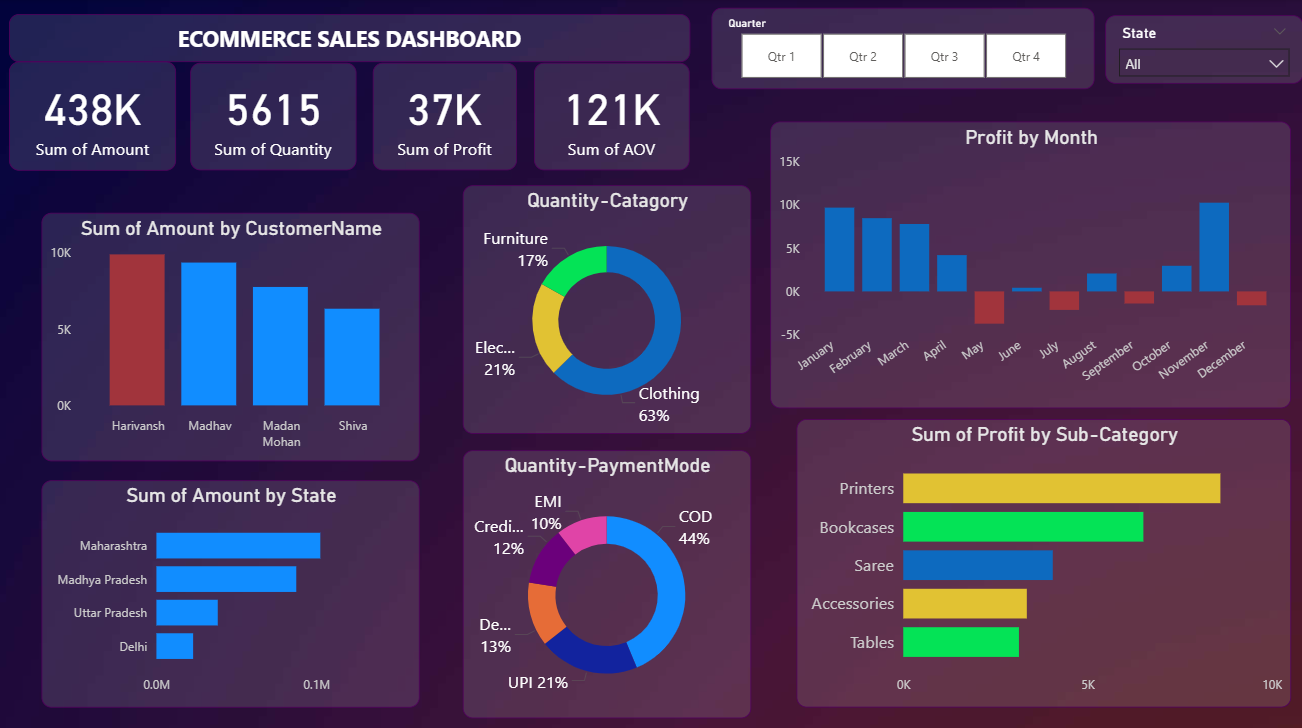

This screenshot's page, from the dashboard's own definition file:
{"tool":"powerbi","page":{"name":"Page 1","canvas":[1280,720],"ordinal":0},"visuals":[{"type":"textbox","box":[10,14.3,668.6,47.1],"z":0},{"type":"columnChart","title":"Profit by Month","fields":{"Category":["Orders.Order Date.Variation.Date Hierarchy.Month"],"Y":["Details.Profit"]},"box":[757.1,120,511.4,281.4],"z":1000},{"type":"barChart","fields":{"Category":["Details.Sub-Category"],"Y":["Details.Profit"]},"box":[782.9,412.9,485.7,282.9],"z":2000},{"type":"donutChart","title":"Quantity-PaymentMode","fields":{"Y":["Details.Quantity"],"Category":["Details.PaymentMode"]},"box":[455.7,442.9,282.9,262.9],"z":3000},{"type":"donutChart","title":"Quantity-Catagory","fields":{"Category":["Details.Category"],"Y":["Details.Quantity"]},"box":[455.7,182.9,282.9,244.3],"z":4000},{"type":"card","fields":{"Values":["Details.Profit"]},"box":[367.1,62.9,141.4,105.7],"z":5000},{"type":"card","fields":{"Values":["Details.Amount"]},"box":[10,61.4,164.3,107.1],"z":6000},{"type":"card","fields":{"Values":["Details.Quantity"]},"box":[187.1,62.9,162.9,105.7],"z":7000},{"type":"card","fields":{"Values":["Details.AOV"]},"box":[525.7,62.9,152.9,105.7],"z":8000},{"type":"columnChart","fields":{"Y":["Details.Amount"],"Category":["Orders.CustomerName"]},"box":[41.4,210,371.4,244.3],"z":9000},{"type":"barChart","fields":{"Category":["Orders.State"],"Y":["Details.Amount"]},"box":[41.4,472.9,371.4,222.9],"z":10000},{"type":"slicer","fields":{"Values":["Orders.Order Date.Variation.Date Hierarchy.Quarter"]},"box":[700,8.6,375.7,80],"z":11000},{"type":"slicer","fields":{"Values":["Orders.State"]},"box":[1085.7,15.7,194.3,67.1],"z":11001}]}

Visuals, with their boxes in screenshot pixels (x1, y1, x2, y2), scaled from the page's 1280x720 canvas onto the 1302x728 screenshot:
textbox: box=[10, 14, 690, 62]
"Profit by Month" columnChart: box=[770, 121, 1290, 406]
barChart - Details.Sub-Category x Details.Profit: box=[796, 417, 1290, 704]
"Quantity-PaymentMode" donutChart: box=[464, 448, 751, 714]
"Quantity-Catagory" donutChart: box=[464, 185, 751, 432]
card - Details.Profit: box=[373, 64, 517, 170]
card - Details.Amount: box=[10, 62, 177, 170]
card - Details.Quantity: box=[190, 64, 356, 170]
card - Details.AOV: box=[535, 64, 690, 170]
columnChart - Details.Amount x Orders.CustomerName: box=[42, 212, 420, 459]
barChart - Orders.State x Details.Amount: box=[42, 478, 420, 704]
slicer - Orders.Order Date.Variation.Date Hierarchy.Quarter: box=[712, 9, 1094, 90]
slicer - Orders.State: box=[1104, 16, 1301, 84]
